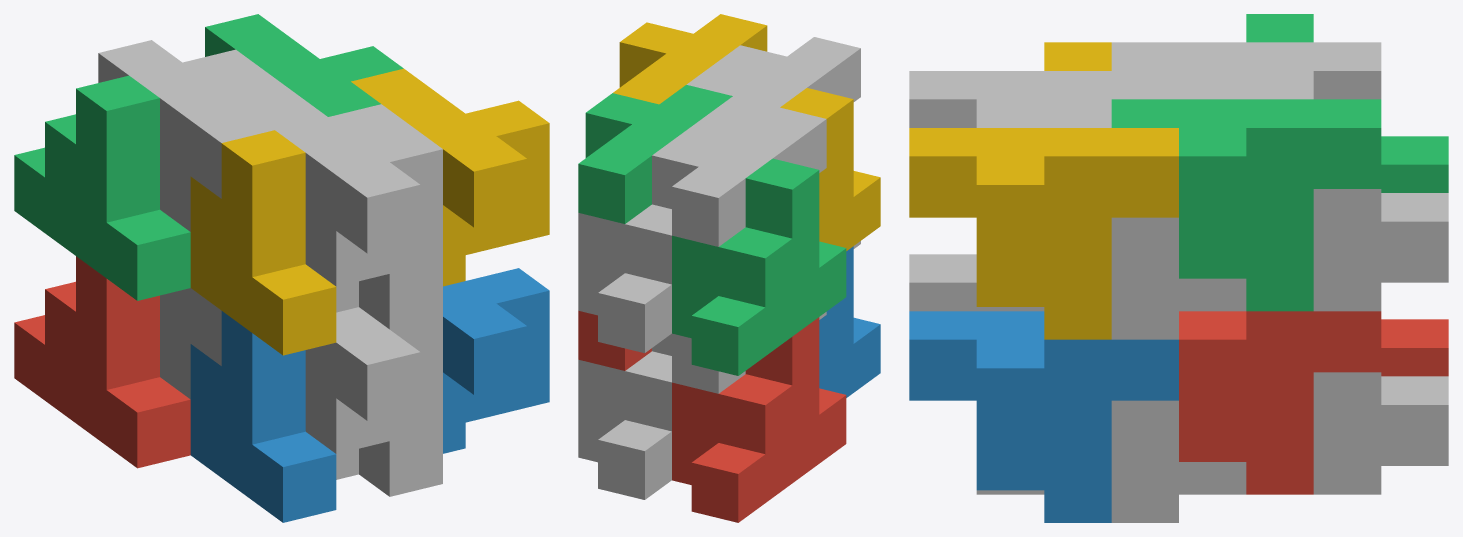
The model's file is tiling.obj.
3 renders of one model, left to right at view 1: azimuth 30°, elevation 25°; view 2: azimuth 150°, elevation 25°; view 3: azimuth 270°, elevation 25°, orthographic. The views are drawn at different scales.
Parts seen in each view (by area): view 1: copy_1_domain_3, copy_1_domain_4, copy_2_domain_4, copy_1_domain_1, copy_1_domain_2, copy_2_domain_8, copy_2_domain_2, copy_2_domain_6, copy_2_domain_3, copy_2_domain_7, copy_1_domain_8, copy_2_domain_1 (+2 smaller); view 2: copy_1_domain_3, copy_1_domain_1, copy_1_domain_7, copy_1_domain_5, copy_2_domain_3, copy_2_domain_7, copy_2_domain_8, copy_2_domain_4, copy_1_domain_4, copy_1_domain_2, copy_2_domain_1, copy_2_domain_5 (+1 smaller); view 3: copy_2_domain_8, copy_2_domain_6, copy_2_domain_7, copy_2_domain_5, copy_1_domain_7, copy_1_domain_5, copy_1_domain_8, copy_2_domain_3, copy_2_domain_4, copy_1_domain_6, copy_1_domain_3, copy_1_domain_1 (+2 smaller).
Part boxes in pixels (x1,y1,x2,y2): copy_1_domain_3: (14,75,190,300); copy_1_domain_4: (190,130,336,355); copy_2_domain_4: (244,94,442,312); copy_1_domain_1: (14,256,190,468); copy_1_domain_2: (190,311,336,522); copy_2_domain_8: (351,68,549,286); copy_2_domain_2: (305,307,442,479); copy_2_domain_6: (443,268,549,453); copy_2_domain_3: (98,40,296,231); copy_2_domain_7: (205,14,403,116); copy_1_domain_8: (328,104,442,329); copy_2_domain_1: (160,288,221,399); copy_1_domain_3: (672,158,846,375); copy_1_domain_1: (672,317,846,522); copy_1_domain_7: (578,135,725,353); copy_1_domain_5: (578,333,671,499); copy_2_domain_3: (672,107,826,246); copy_2_domain_7: (578,85,732,223); copy_2_domain_8: (613,14,767,104); copy_2_domain_4: (706,37,860,127); copy_1_domain_4: (780,88,880,250); copy_1_domain_2: (819,246,880,397); copy_2_domain_1: (672,312,826,393); copy_2_domain_5: (578,310,651,370); copy_2_domain_8: (909,128,1178,339); copy_2_domain_6: (909,311,1178,522); copy_2_domain_7: (1111,99,1381,311); copy_2_domain_5: (1179,311,1381,494); copy_1_domain_7: (1246,71,1448,311); copy_1_domain_5: (1313,372,1448,494); copy_1_domain_8: (976,99,1246,339); copy_2_domain_3: (1111,42,1381,99); copy_2_domain_4: (909,71,1178,127); copy_1_domain_6: (976,400,1246,522); copy_1_domain_3: (1246,14,1448,192); copy_1_domain_1: (1381,319,1448,376).
Bounding box in the file's own units: 6 × 6 × 8.
